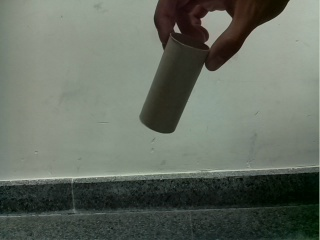rollo papel: (138, 32, 210, 134)
